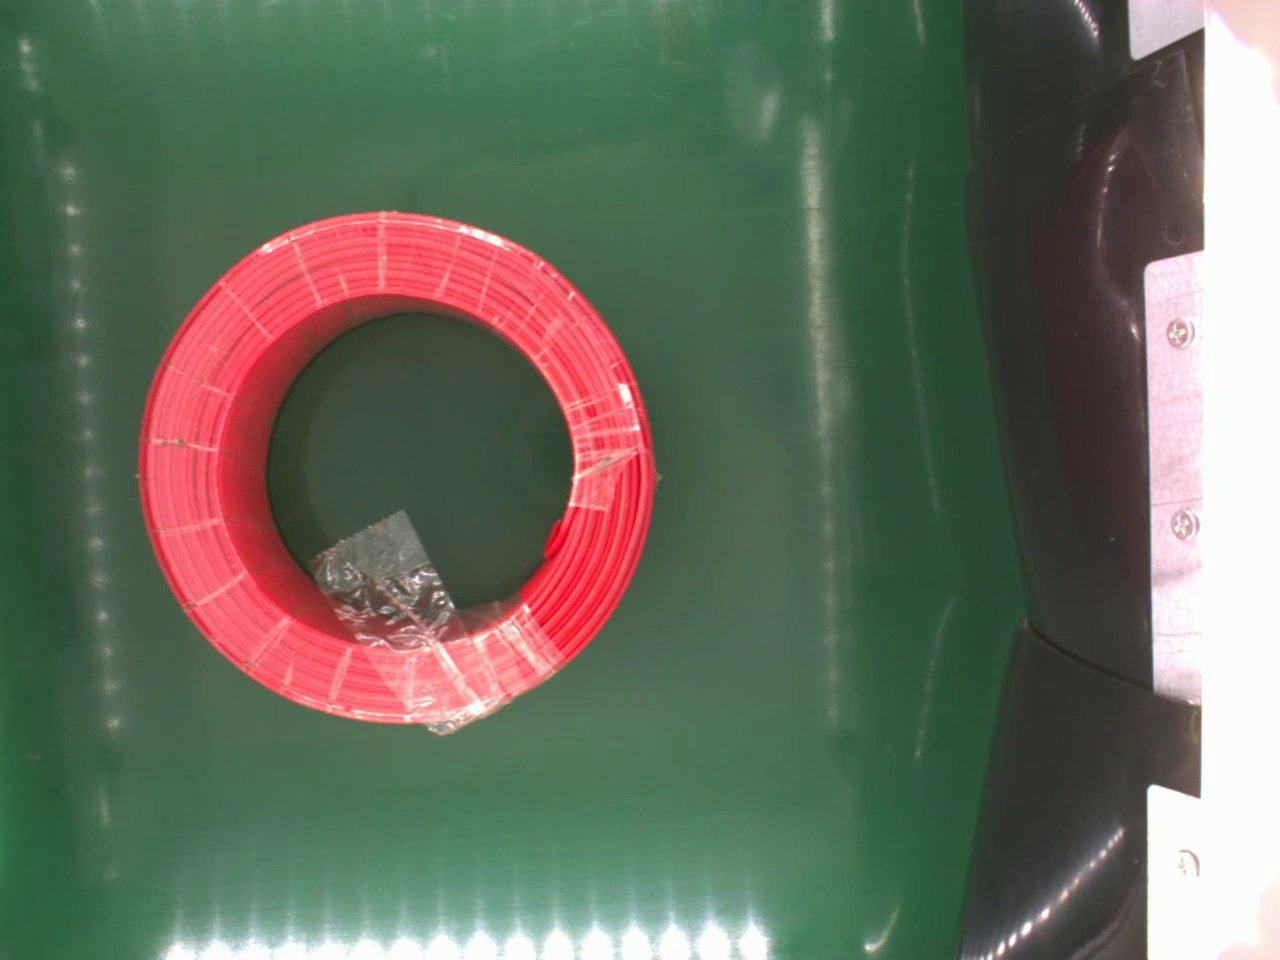red: (140, 211, 653, 730)
